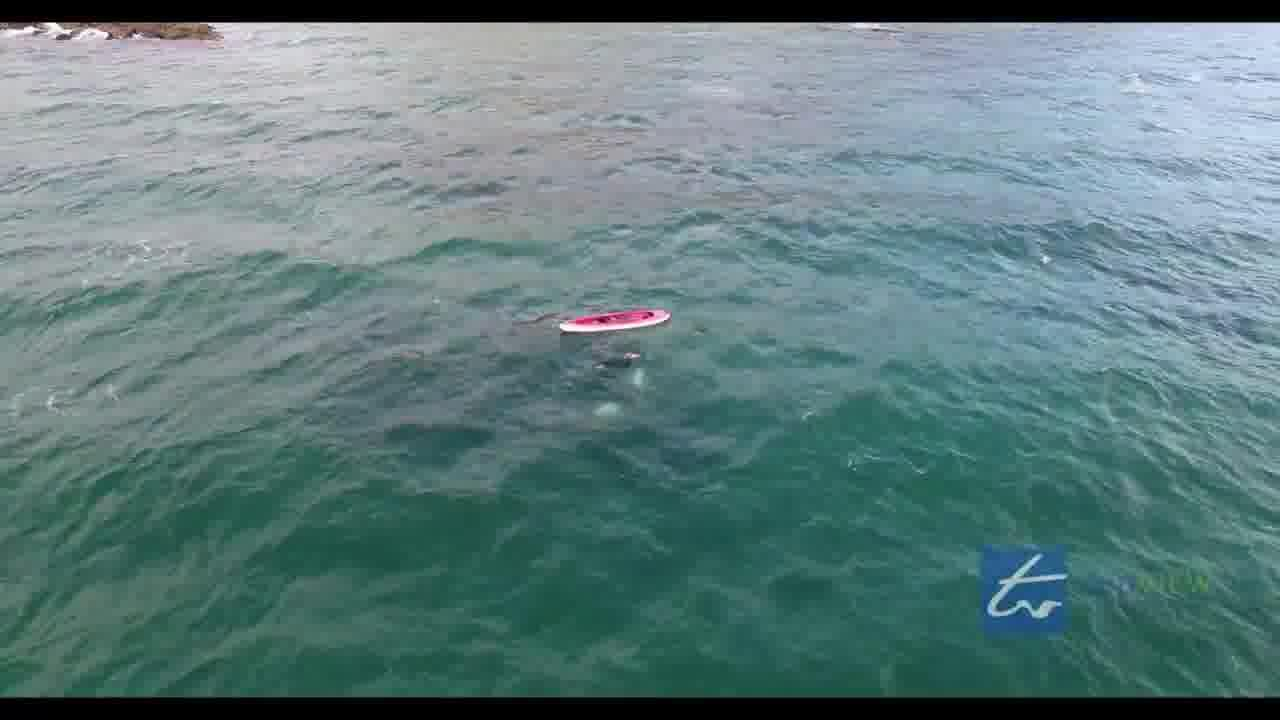swimmer: (587, 345, 652, 372)
